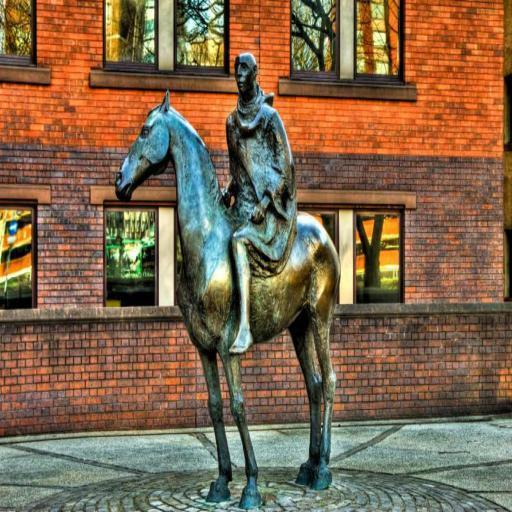horse: (110, 86, 342, 512)
